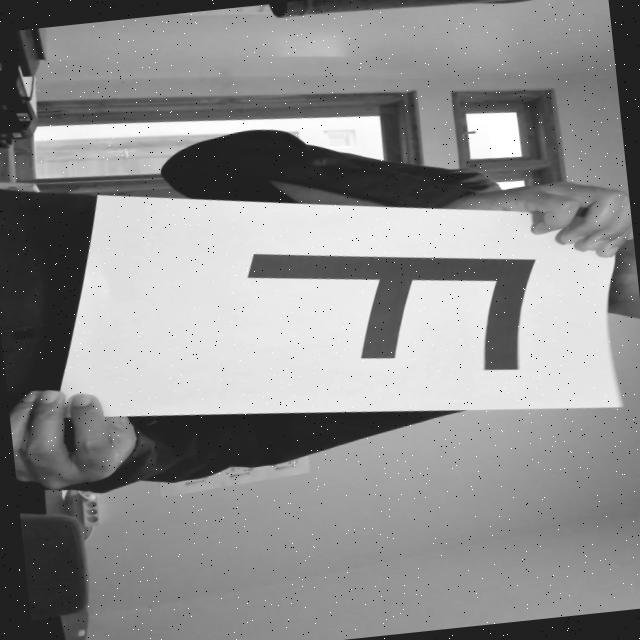f: (175, 218, 566, 412)
